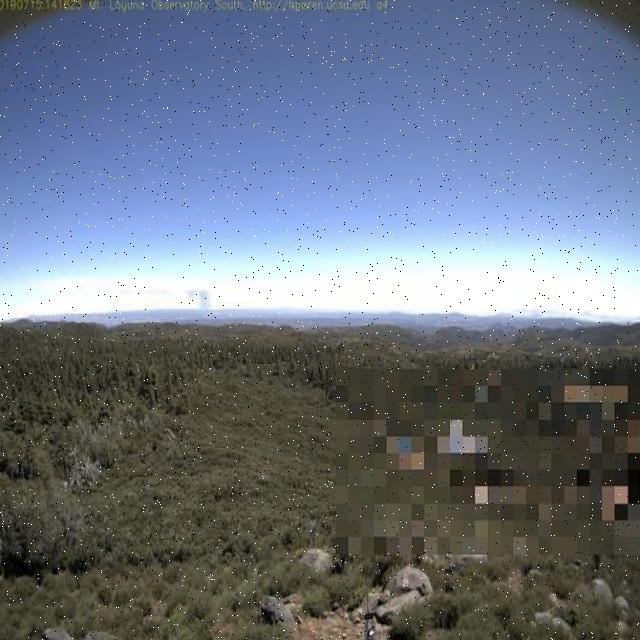smoke: (178, 284, 213, 319)
